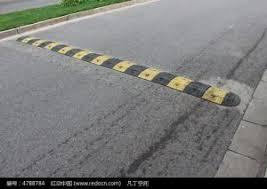Bump: (17, 35, 242, 107)
